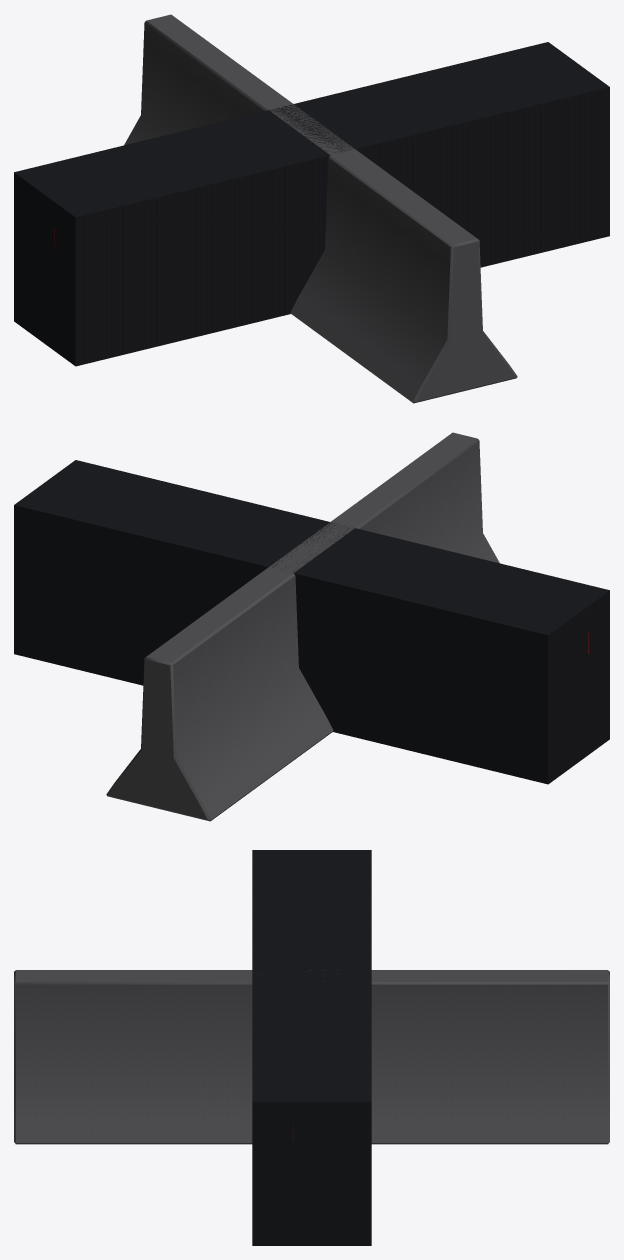
File: kit_jersey_barrier.glb
3 renders of one model, top to bottom at view 1: azimuth 30°, elevation 25°; view 2: azimuth 150°, elevation 25°; view 3: azimuth 270°, elevation 25°, orthographic. The views are drawn at different scales.
Visible parts, largest first — view 1: jb_COL, jb_body; view 2: jb_COL, jb_body; view 3: jb_body, jb_COL.
Part boxes in pixels (x1,y1,x2,y2): jb_COL: [14, 42, 609, 366]; jb_body: [124, 14, 517, 403]; jb_COL: [14, 460, 609, 784]; jb_body: [106, 432, 499, 821]; jb_body: [14, 970, 609, 1144]; jb_COL: [252, 850, 371, 1245].
Size of the model in its own units: 3 by 0.8 by 3.
3 materials, 3 textured.
